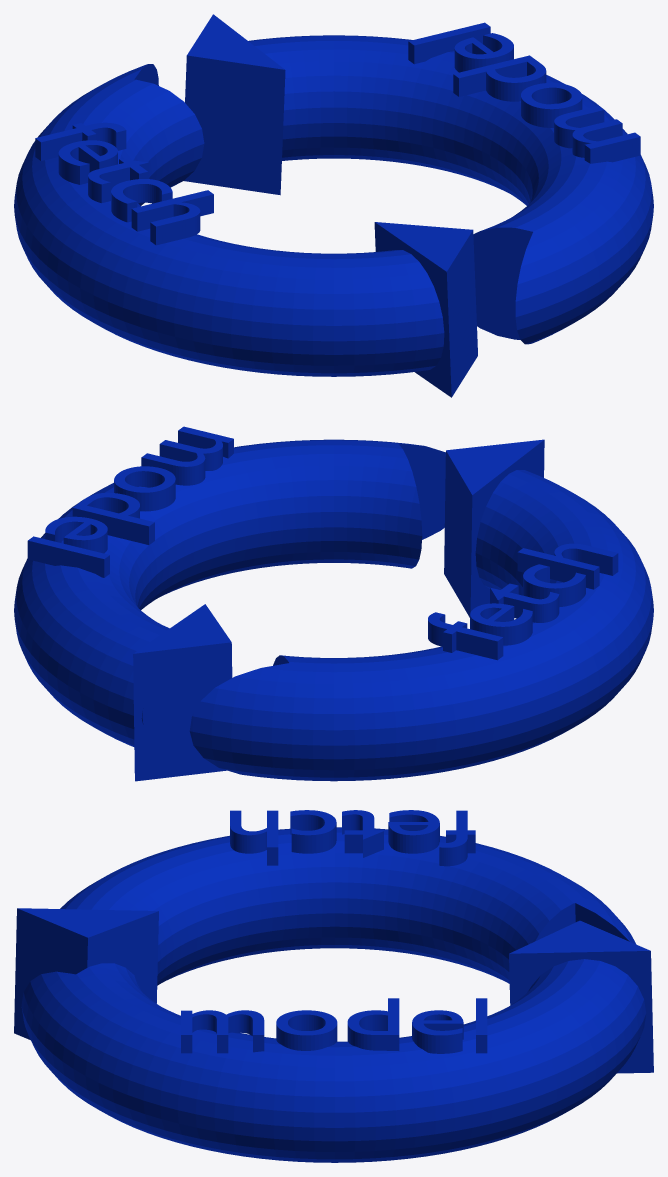
Rendered from another_test.glb.
3 views of the same model, one above another, from view 1: azimuth 30°, elevation 25°; view 2: azimuth 150°, elevation 25°; view 3: azimuth 270°, elevation 25° (orthographic).
Visible parts, largest first — view 1: TorusFinalWithText; view 2: TorusFinalWithText; view 3: TorusFinalWithText.
Part boxes in pixels (x1,y1,x2,y2): TorusFinalWithText: [14, 14, 653, 397]; TorusFinalWithText: [14, 426, 653, 781]; TorusFinalWithText: [14, 810, 653, 1162].
Size of the model in its own units: 2.47 by 0.5917 by 2.51.
